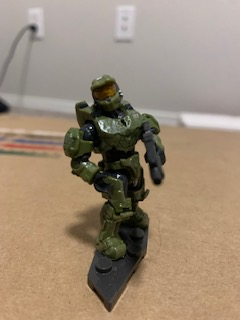chief: (62, 73, 165, 258)
spartan: (64, 75, 167, 260)
